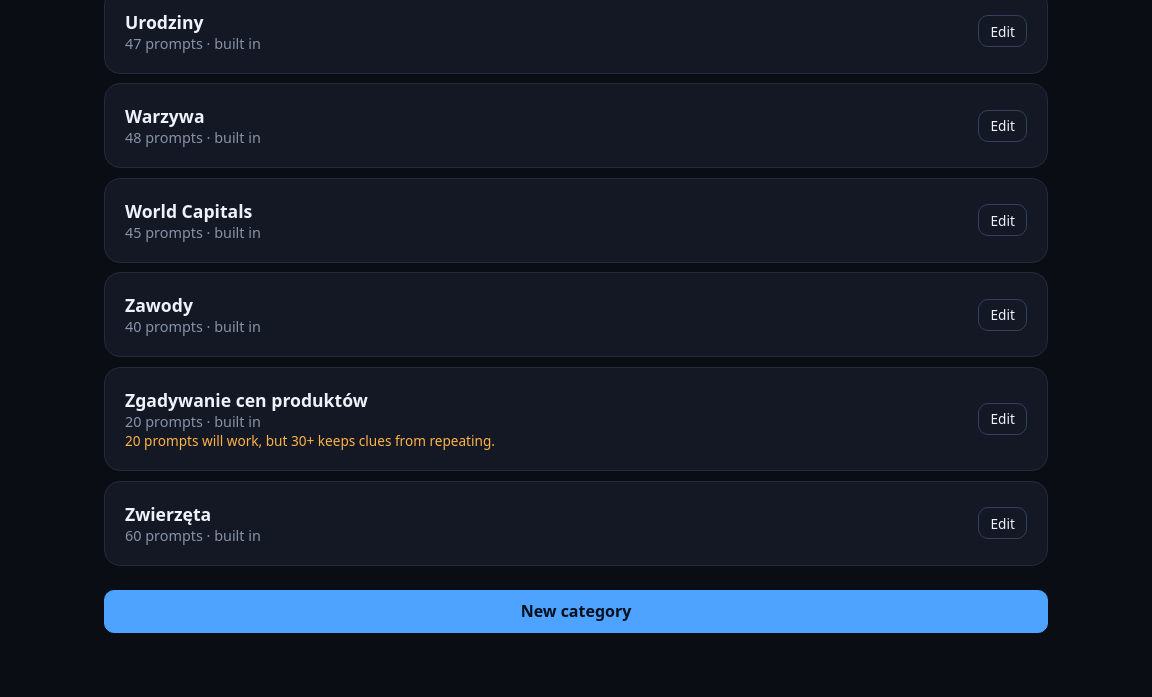
Scenario: CategoryEditorScreen › switches a prompt to an image and offers a file picker
(page scrolled)
Click the button "New category" at (576, 611), box x1=104 y1=590 x2=1048 y2=633
(page scrolled)
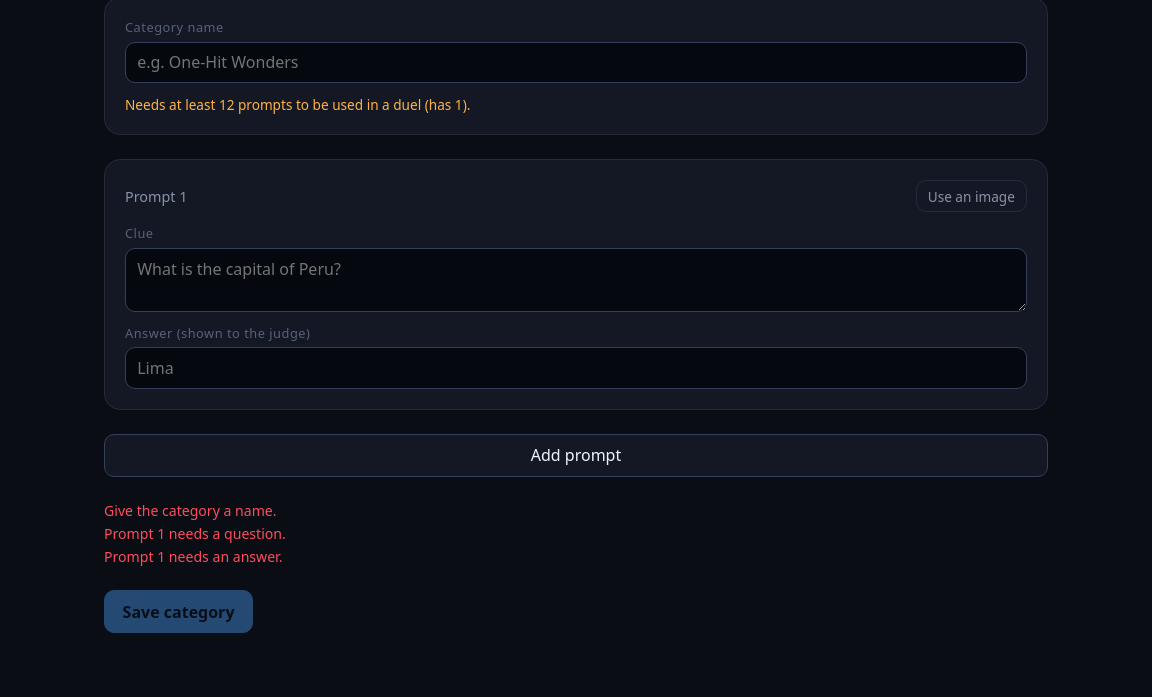
Click the button "Use an image" at (971, 196), box x1=916 y1=180 x2=1027 y2=212
(page scrolled)
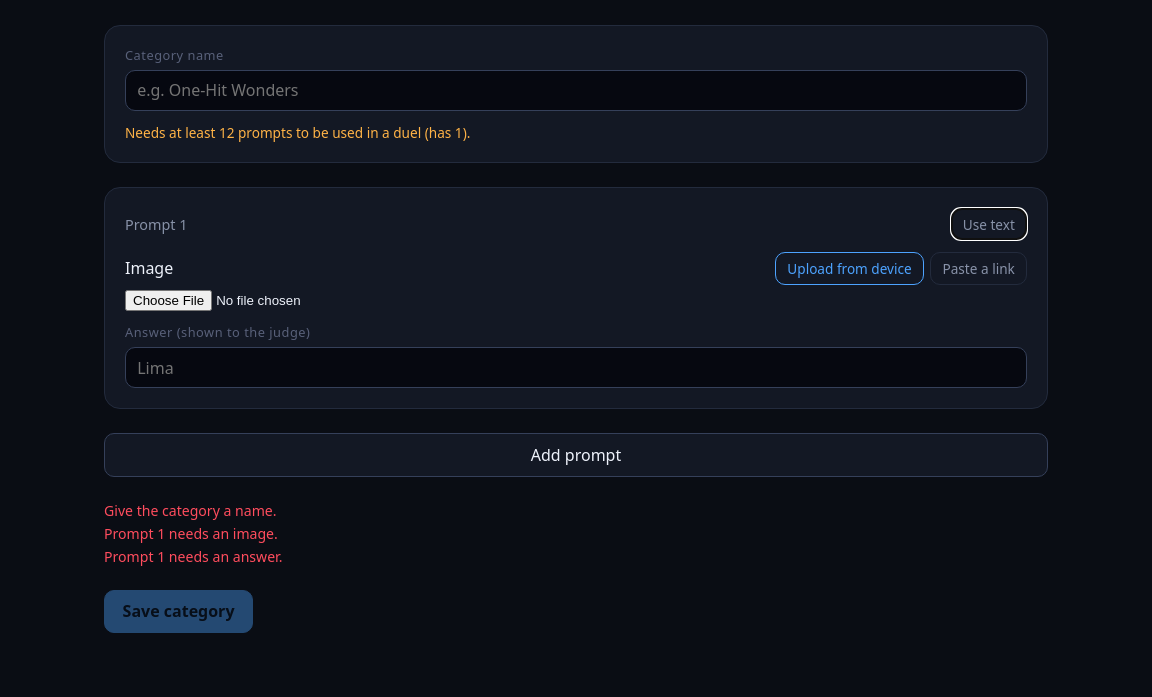
Check: the file field named "image for prompt 1" is shown, box x1=125 y1=290 x2=1027 y2=311
Check: the text labelled "Clue" is gone
